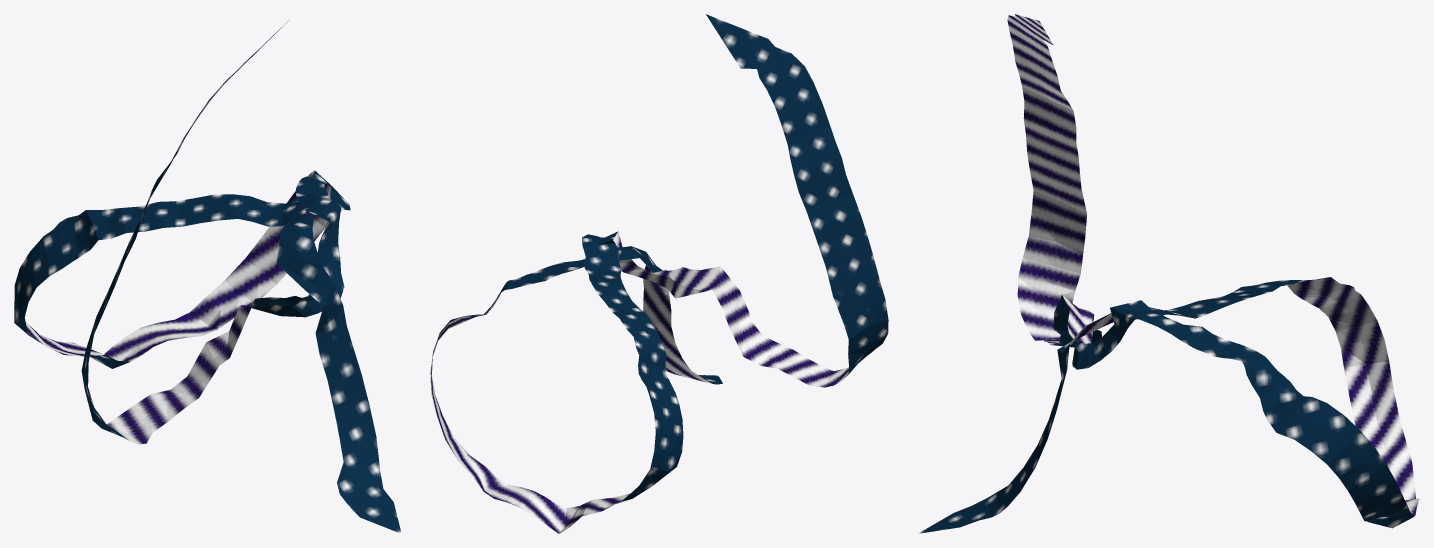
3 views of the same model, side by side, from view 1: azimuth 30°, elevation 25°; view 2: azimuth 150°, elevation 25°; view 3: azimuth 270°, elevation 25° (orthographic). The views are drawn at different scales.
Visible parts, largest first — view 1: Mesh2; view 2: Mesh2; view 3: Mesh2.
Boxes of the visible parts, x1=… form: Mesh2: x1=14, y1=20, x2=401, y2=533; Mesh2: x1=430, y1=14, x2=888, y2=533; Mesh2: x1=918, y1=14, x2=1419, y2=533.
Bounding box in the file's own units: 1.07 × 1.25 × 1.16.
Materials: 2 (2 with a texture image).
